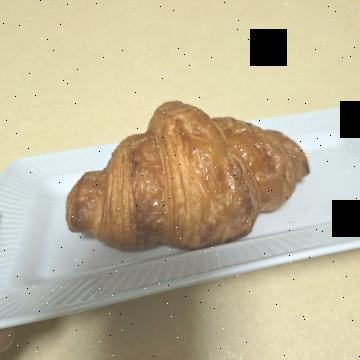croissant: (98, 49, 278, 314)
